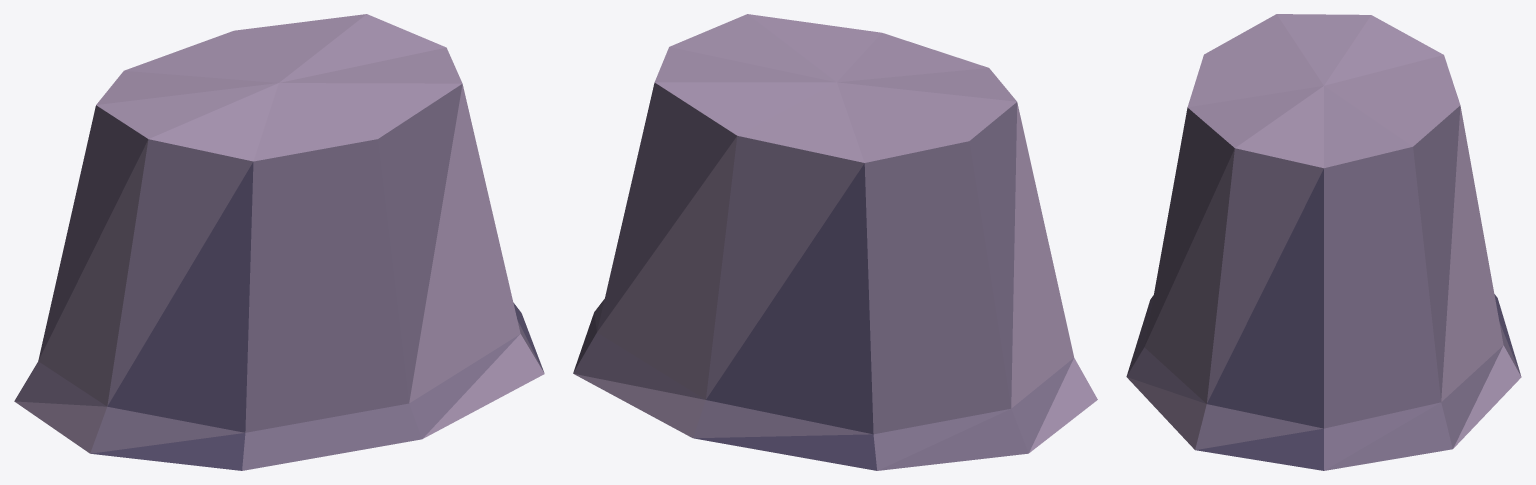
The picture shows the model from 3 angles, left to right: view 1: azimuth 30°, elevation 25°; view 2: azimuth 150°, elevation 25°; view 3: azimuth 270°, elevation 25°; orthographic projection. The views are drawn at different scales.
Parts seen in each view (by area): view 1: 错层台地_2.001; view 2: 错层台地_2.001; view 3: 错层台地_2.001.
Part boxes in pixels (bbox=[...]): 错层台地_2.001: bbox=[14, 14, 544, 470]; 错层台地_2.001: bbox=[573, 14, 1097, 470]; 错层台地_2.001: bbox=[1126, 14, 1521, 470].
Size of the model in its own units: 1.27 by 0.7478 by 0.975.
